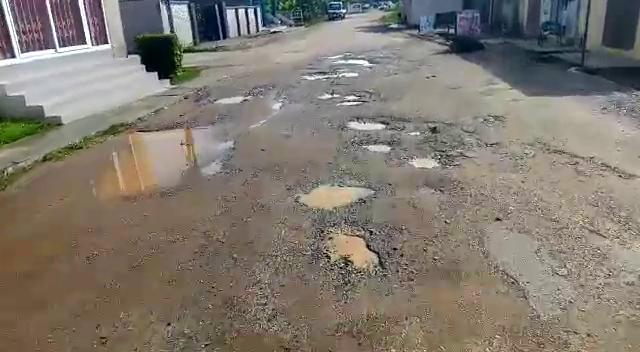pothole: (28, 128, 235, 200), (313, 225, 386, 278), (295, 182, 375, 211), (403, 152, 457, 169), (319, 89, 368, 106), (339, 116, 392, 131), (329, 56, 376, 66), (359, 140, 396, 151), (216, 93, 251, 104)
